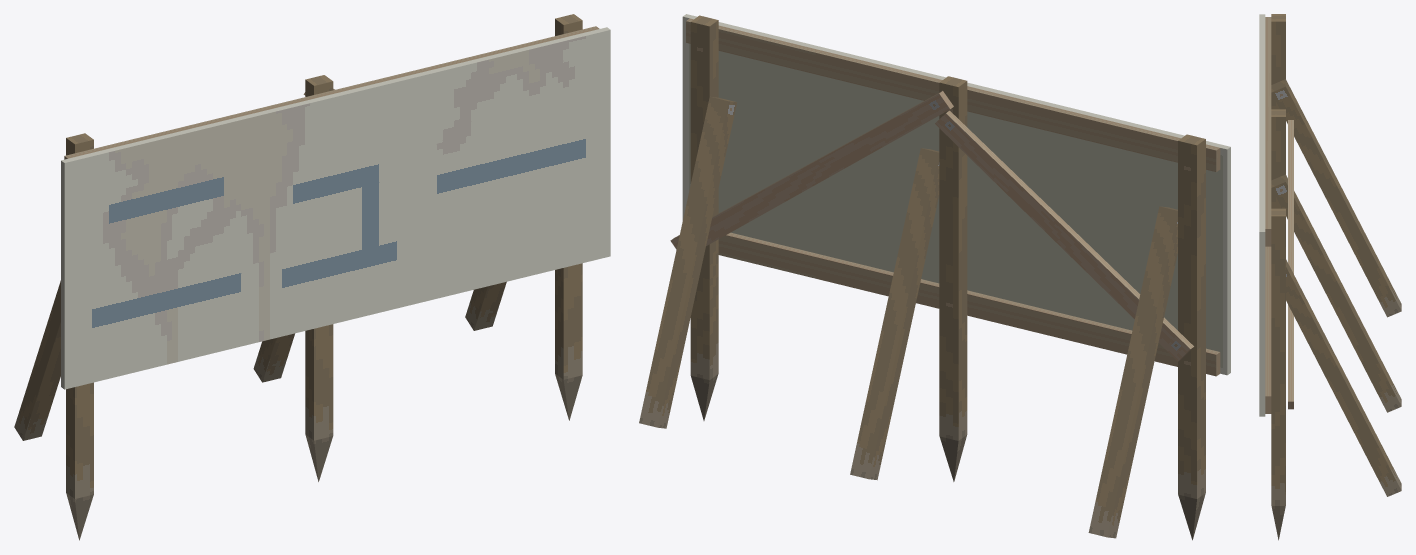
Rendered from 0548_New_Sign.glb.
3 renders of one model, left to right at view 1: azimuth 30°, elevation 25°; view 2: azimuth 150°, elevation 25°; view 3: azimuth 270°, elevation 25°, orthographic. The views are drawn at different scales.
Parts seen in each view (by area): view 1: part_0; view 2: part_0; view 3: part_0.
Part boxes in pixels (x1,y1,x2,y2): part_0: (14, 14, 610, 540); part_0: (639, 14, 1230, 540); part_0: (1259, 14, 1401, 540).
Size of the model in its own units: 5.59 by 3.93 by 1.54.
Materials: 1 (1 with a texture image).
